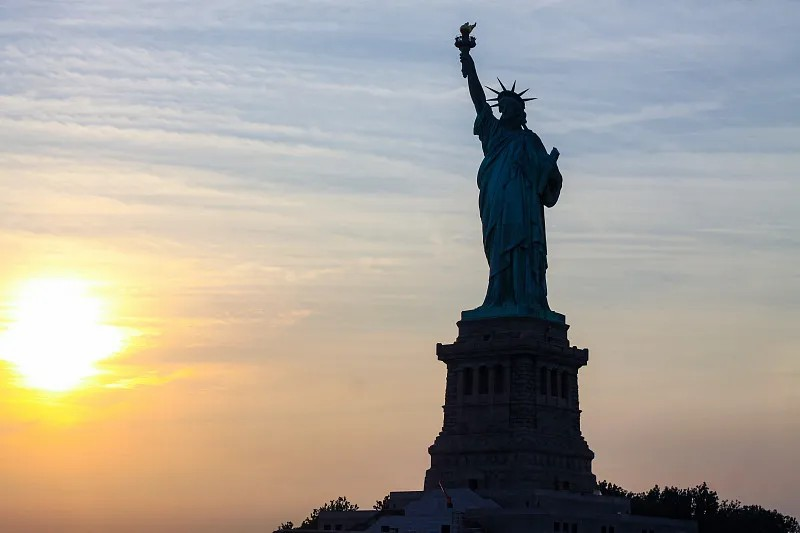SL: (422, 21, 598, 493)
